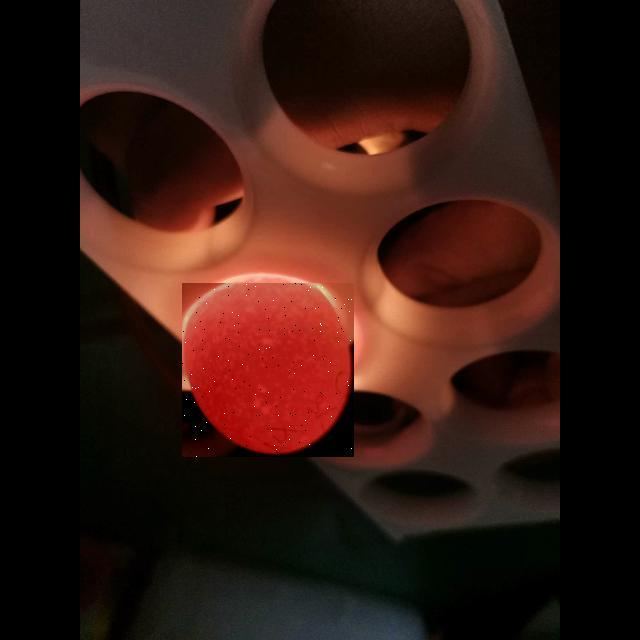Infertile: (182, 283, 354, 457)
